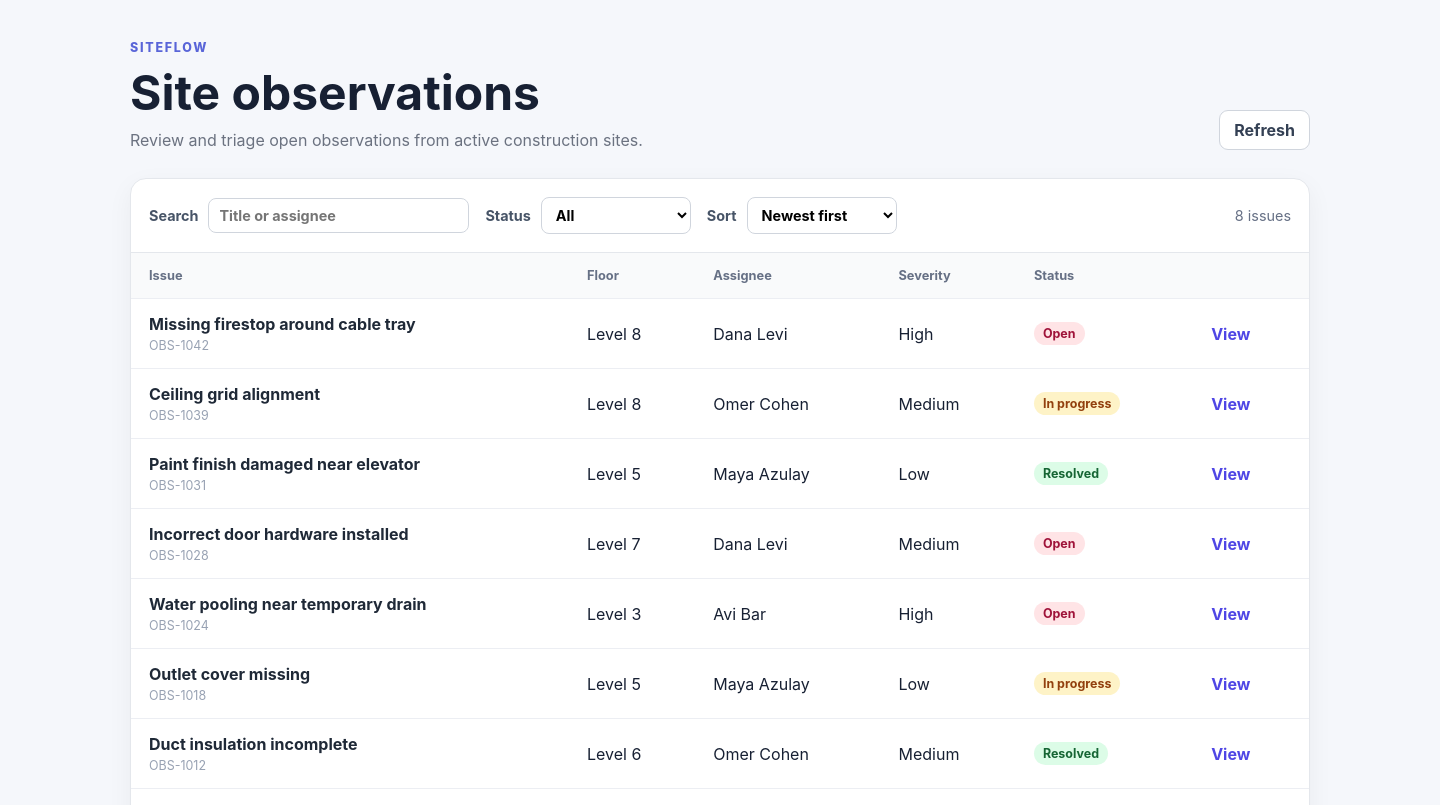
Test: App issue details › keeps the panel and list consistent after a status update
Click the button "View" in the row of "Missing firestop around cable tray" at [1231, 334], box [1205,322,1256,344]
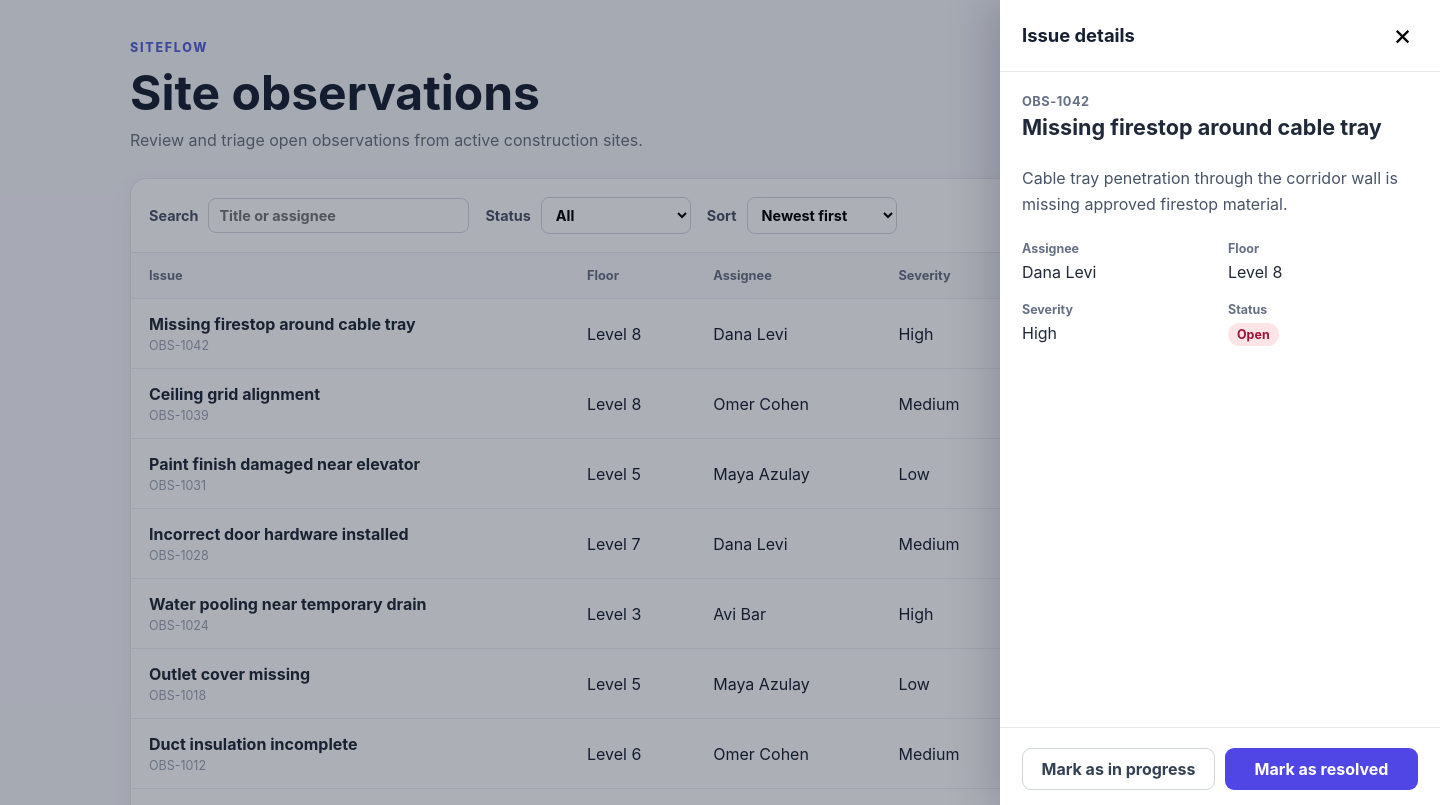
Click the button "Mark as resolved" at [1322, 769], box [1225,748,1418,790]
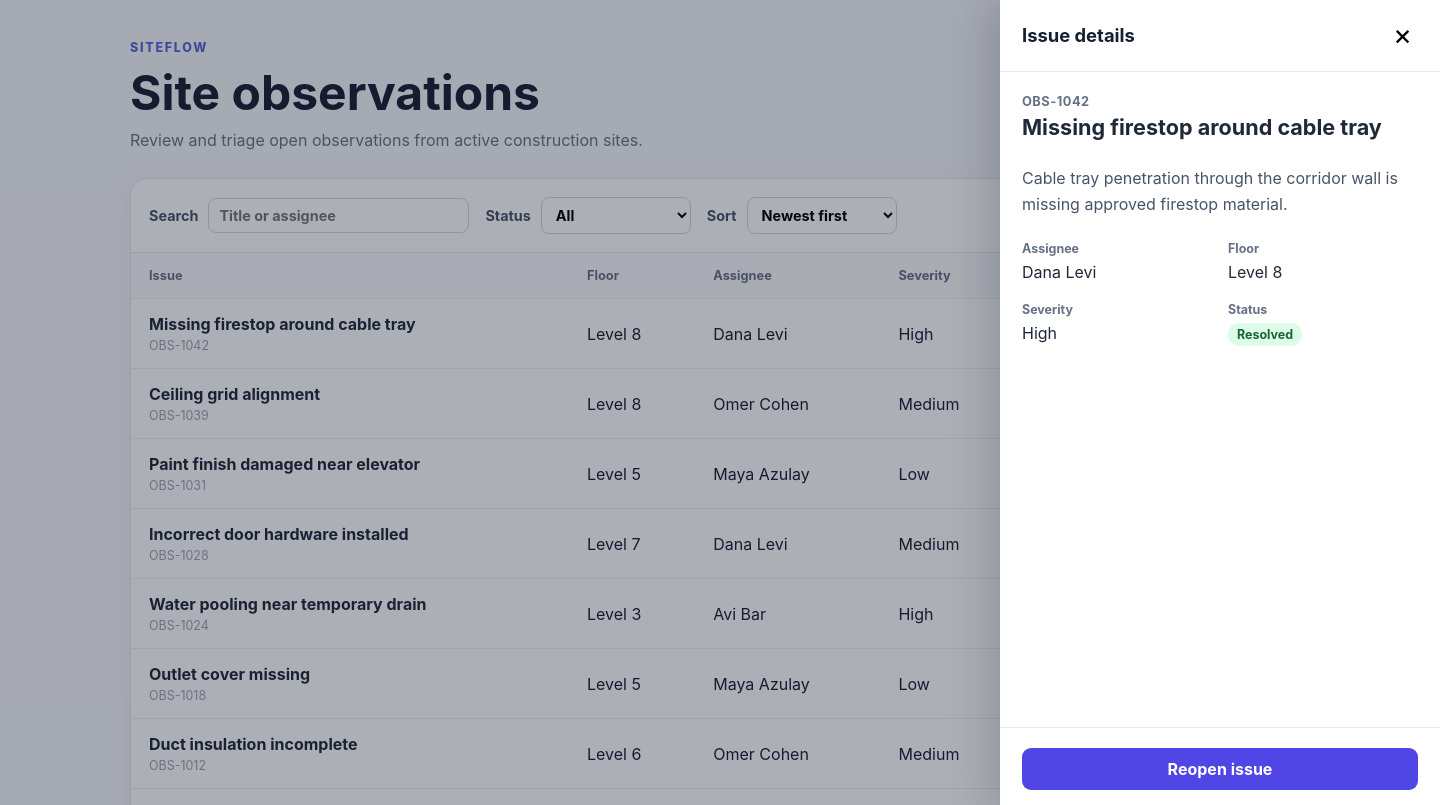
Expected: the text "OBS-1042" is shown, [149,338,209,353]
Expected: the text "Resolved" is shown, [1228,323,1302,346]
